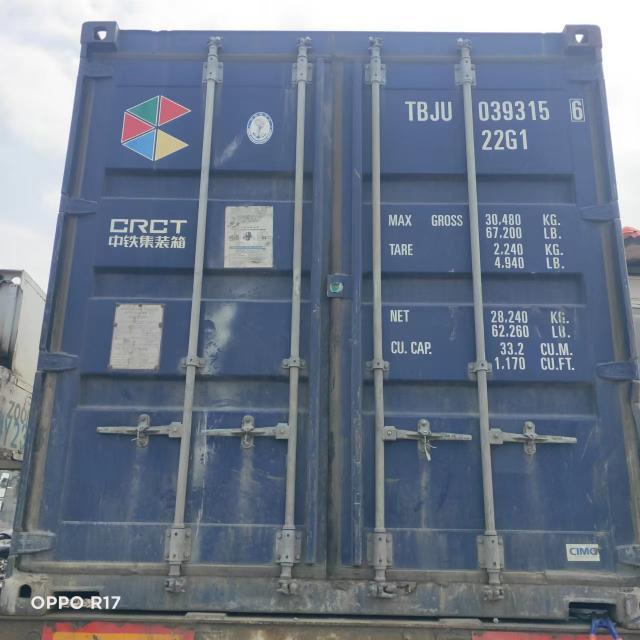ISO: (482, 128, 530, 150)
container_number: (408, 98, 586, 124)
